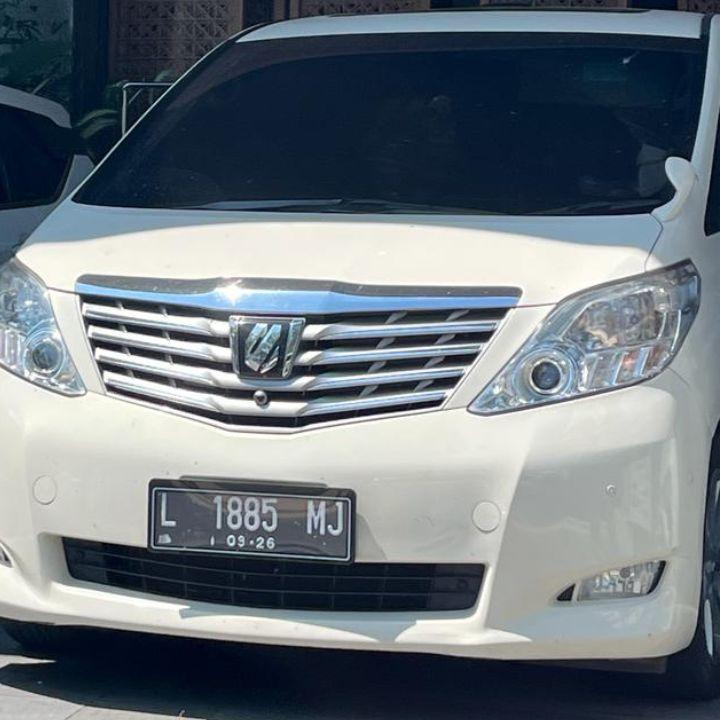plat: (149, 482, 353, 561)
